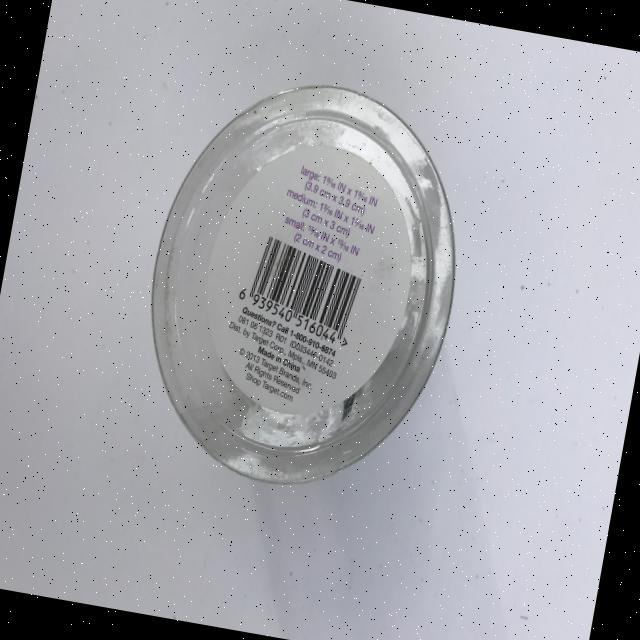plastic: (120, 59, 486, 508)
